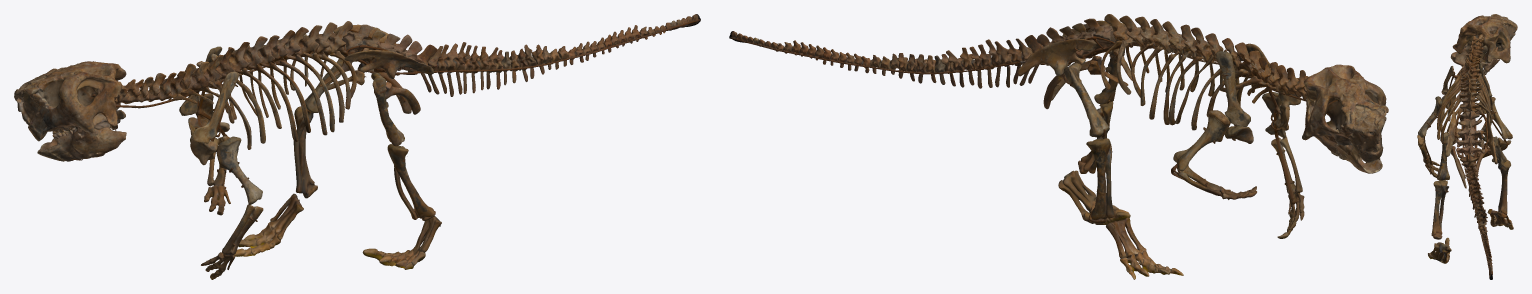
File: psittacosaurus.glb
3 views of the same model, side by side, from view 1: azimuth 30°, elevation 25°; view 2: azimuth 150°, elevation 25°; view 3: azimuth 270°, elevation 25° (orthographic). The views are drawn at different scales.
Visible parts, largest first — view 1: Object_3, Object_2, Object_4; view 2: Object_3, Object_2, Object_4; view 3: Object_3, Object_2, Object_4.
Boxes of the visible parts, left/top/right/bottom form: Object_3: left=14, top=22, right=656, bottom=279; Object_2: left=14, top=16, right=700, bottom=272; Object_4: left=14, top=14, right=700, bottom=260; Object_3: left=769, top=14, right=1388, bottom=279; Object_2: left=729, top=14, right=1383, bottom=273; Object_4: left=732, top=17, right=1378, bottom=276; Object_3: left=1417, top=14, right=1517, bottom=265; Object_2: left=1417, top=24, right=1511, bottom=279; Object_4: left=1419, top=36, right=1506, bottom=278.
Size of the model in its own units: 1147 by 394 by 234.
1 material, 1 textured.
